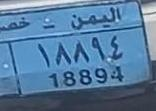number: (10, 26, 152, 96)
text: (1, 2, 143, 42)
